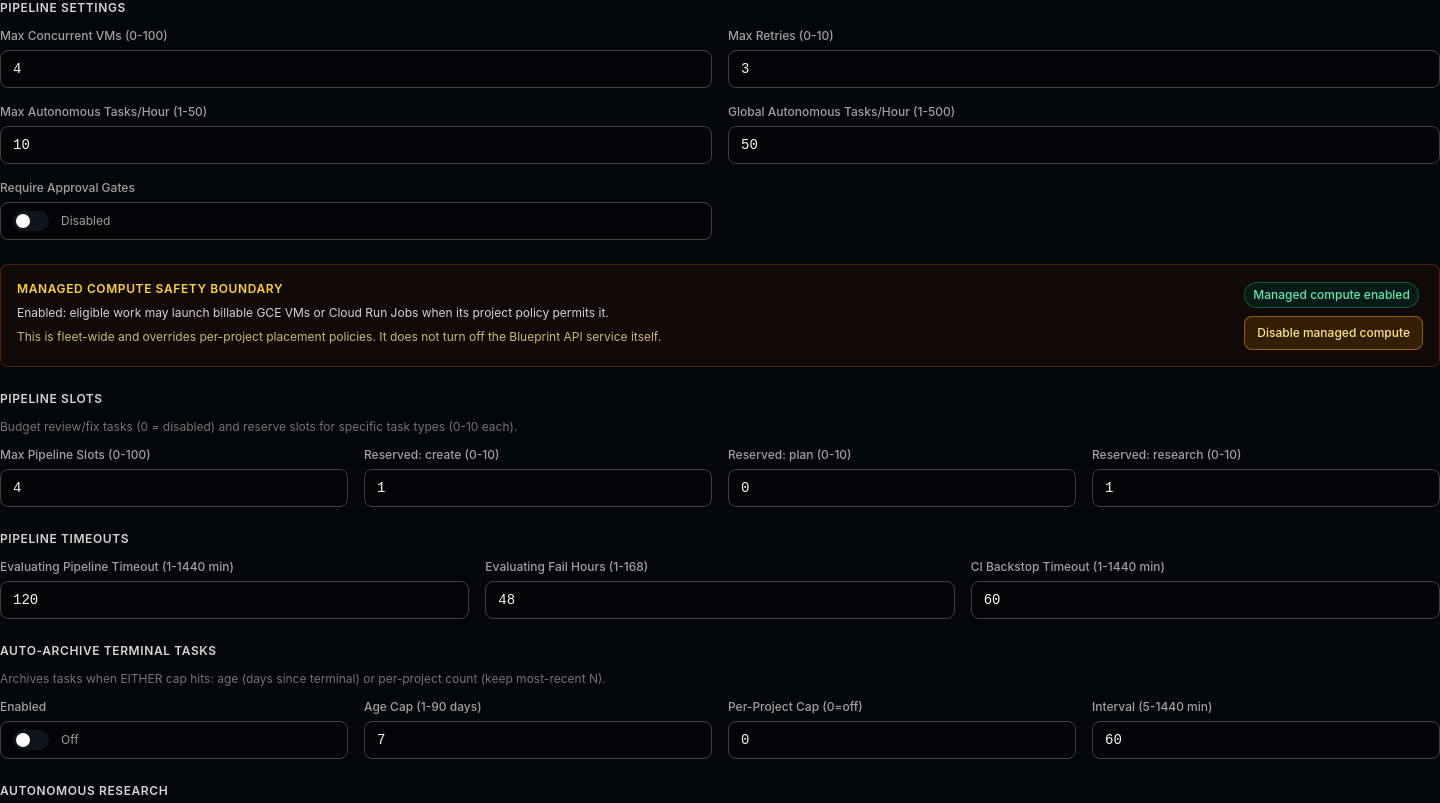
Test case: SettingsOrchestratorSection › keeps the last confirmed state visible when changing the managed compute boundary fails
Click the button "Disable managed compute": (1334, 333) [1244,316,1423,350]
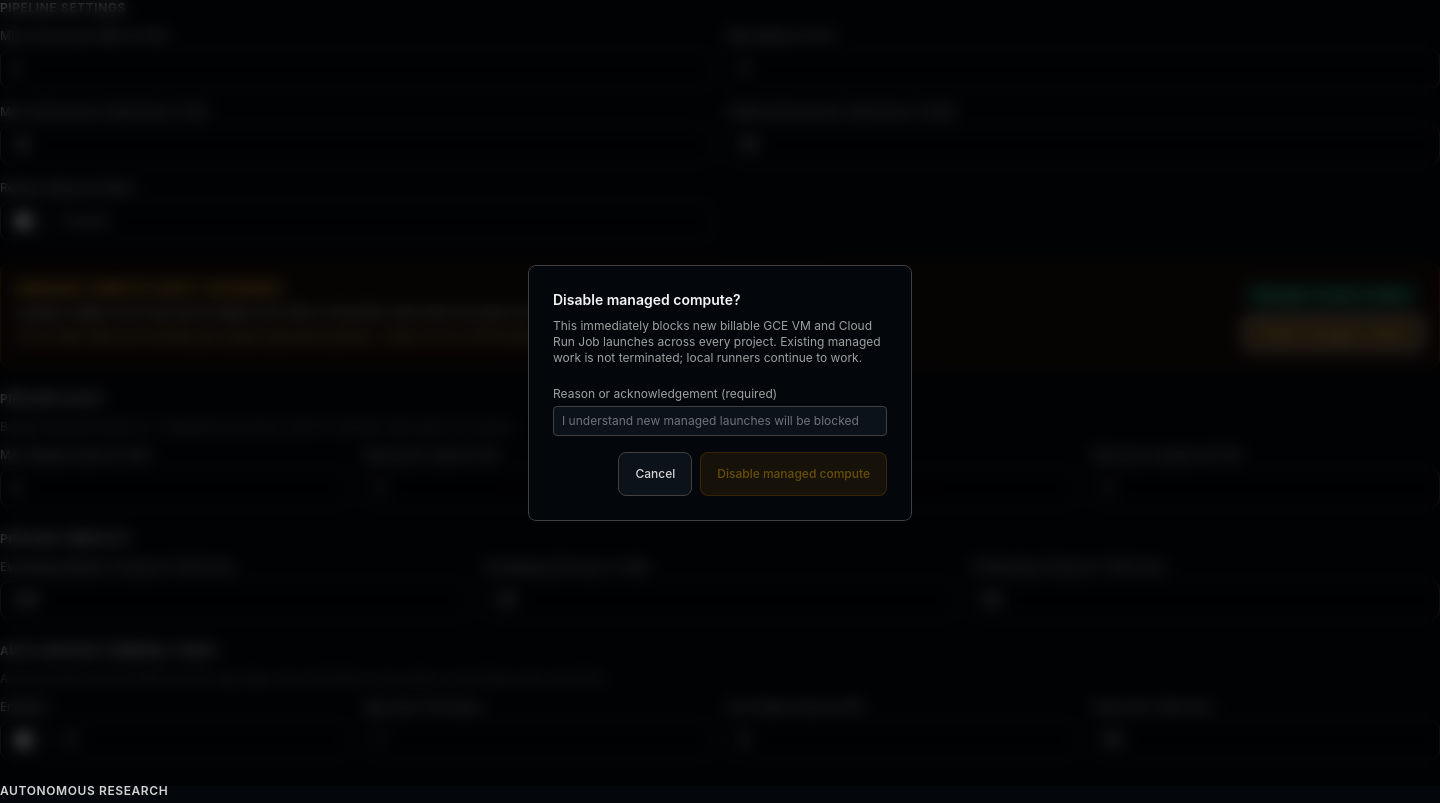
In the field with test id "confirm-dialog-attestation-input": (720, 421) [553,406,887,436], type "cost stop"
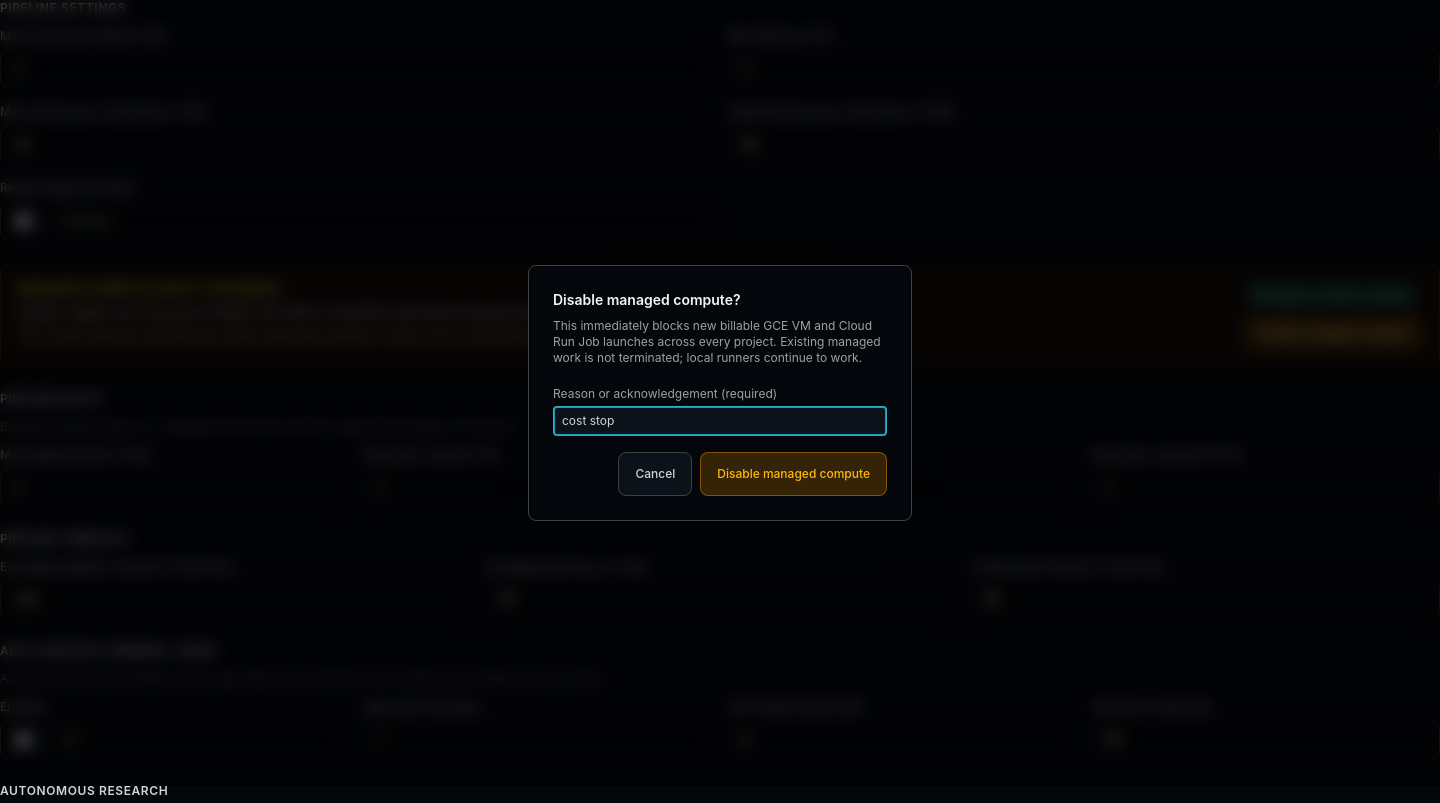
Click the button with test id "confirm-dialog-confirm": (794, 474) [700,452,887,496]
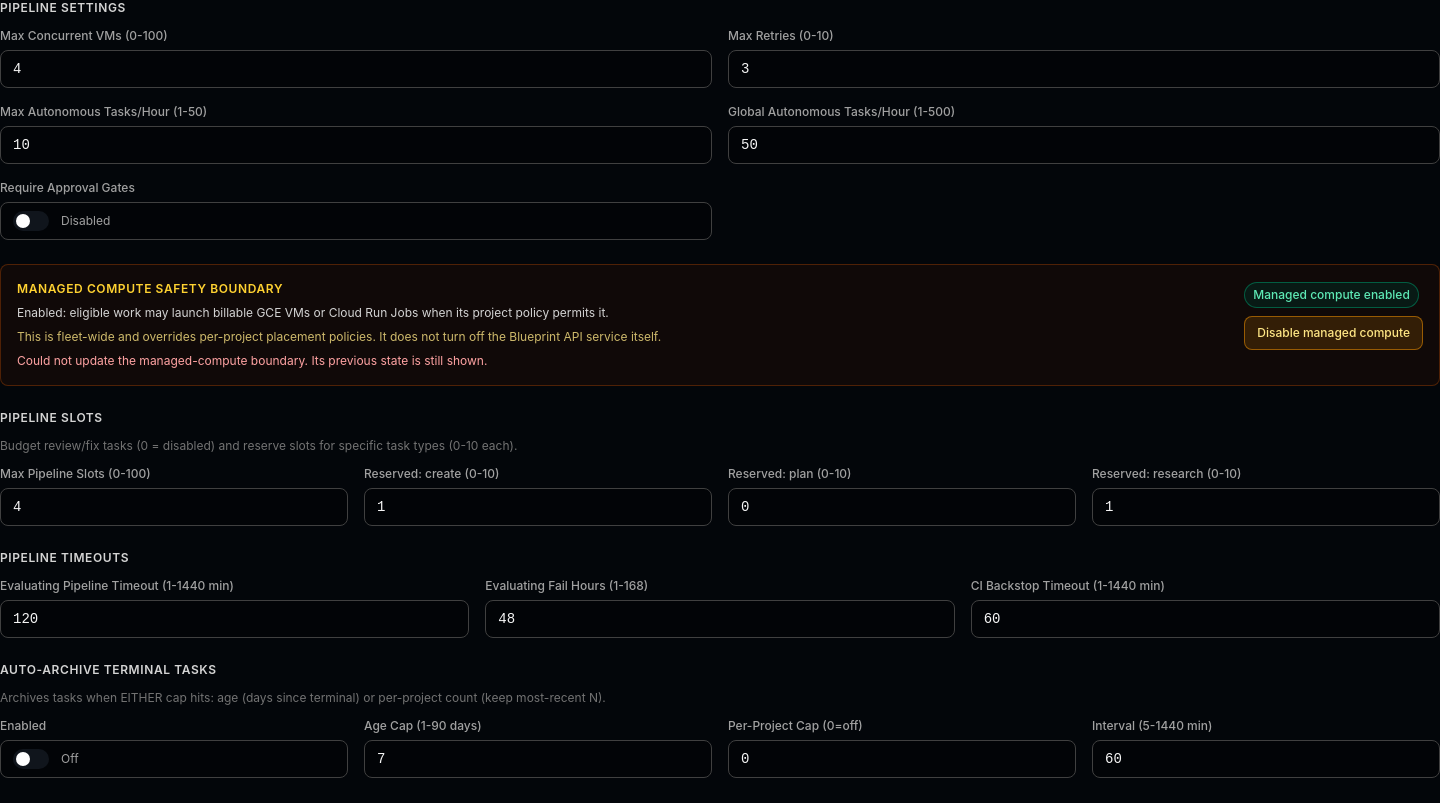
Expected: the text with test id "managed-compute-state" reads "Managed compute enabled", [1253,287,1410,302]
Result: the message shows "Could not update the managed-compute boundary" at [17,353,487,368]
